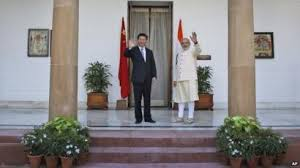Caution: (121, 30, 201, 124)
